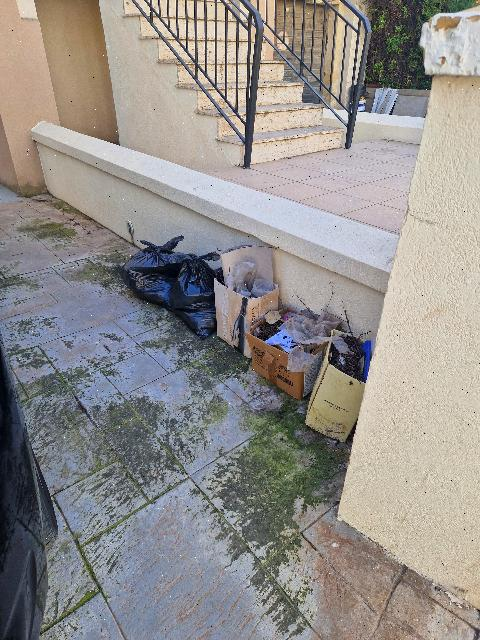Mixed -Black-: (121, 236, 195, 309), (169, 256, 217, 339)
Other: (247, 309, 341, 399), (305, 330, 371, 442), (214, 246, 279, 358)
